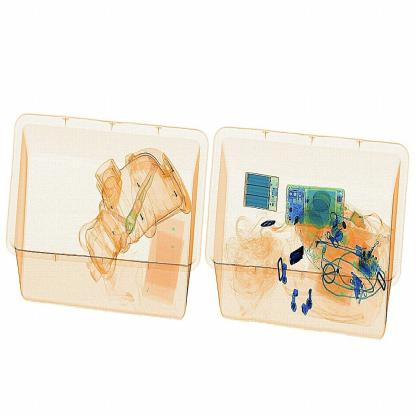knife: (287, 244, 308, 265)
